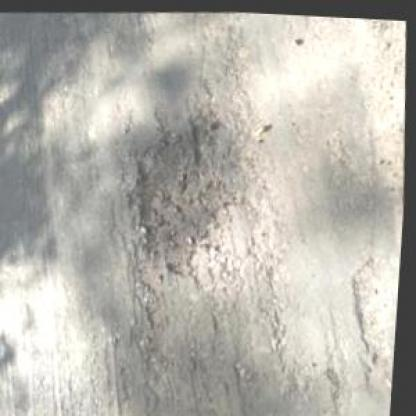pothole: (124, 115, 242, 282), (346, 255, 400, 358)
